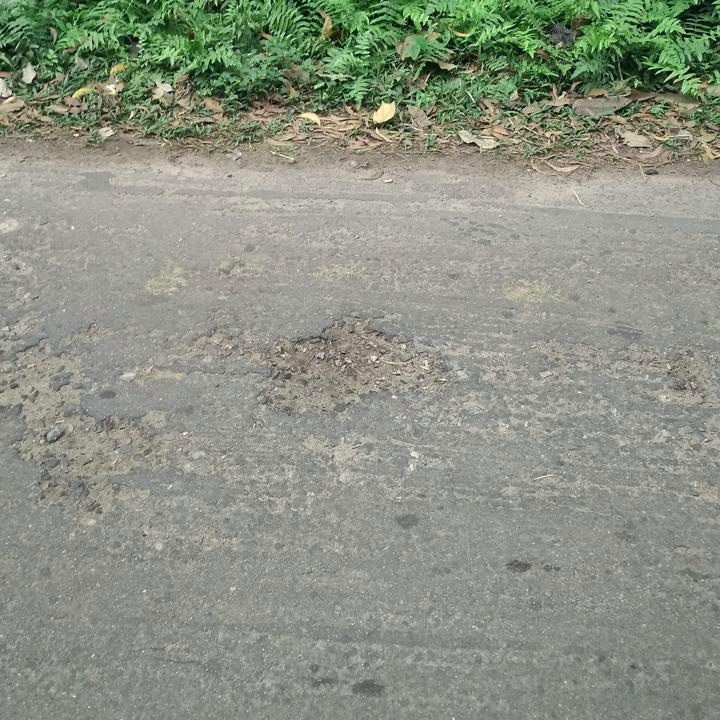pothole: (260, 314, 452, 416), (10, 410, 161, 489), (0, 341, 76, 406)
